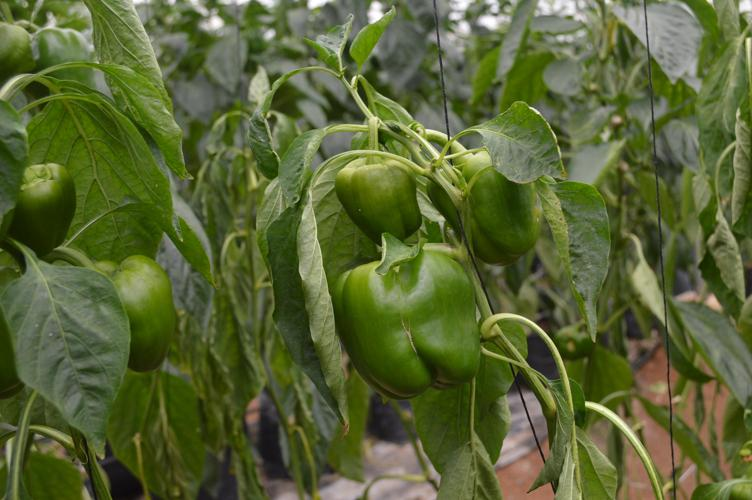BellPepper: (332, 246, 486, 409), (441, 145, 542, 269), (93, 266, 188, 376), (323, 158, 424, 245), (9, 167, 83, 259)
